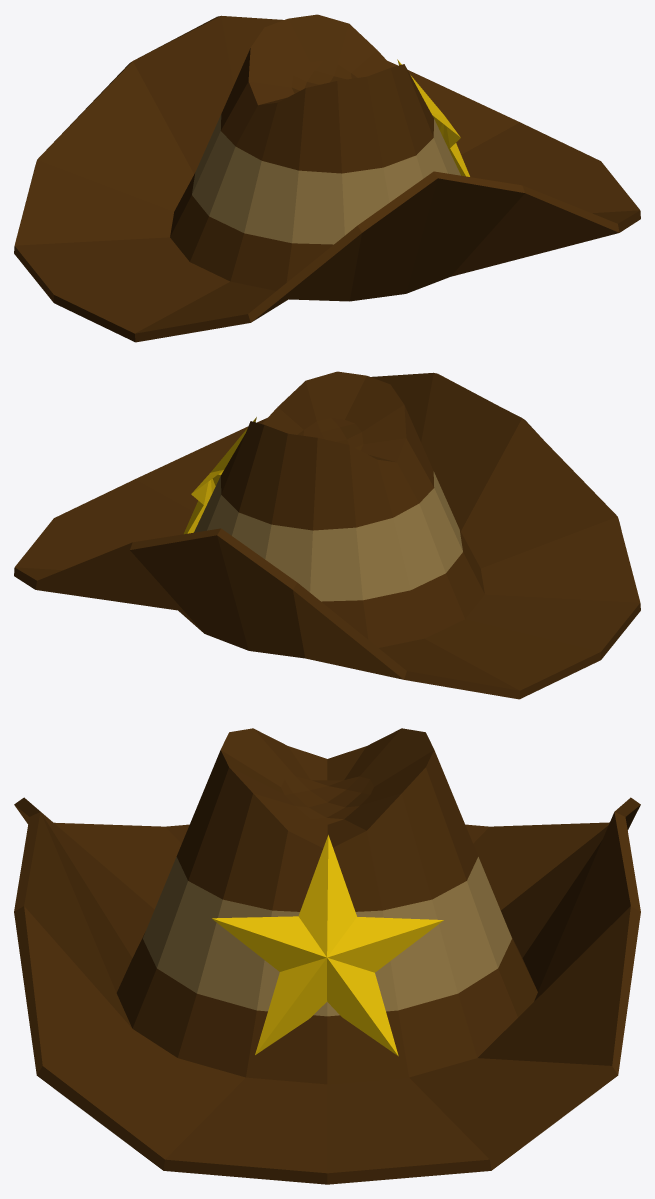
The model's file is Sombrero.fbx.
3 renders of one model, top to bottom at view 1: azimuth 30°, elevation 25°; view 2: azimuth 150°, elevation 25°; view 3: azimuth 270°, elevation 25°, orthographic. The views are drawn at different scales.
Visible parts, largest first — view 1: SombreroVaquero, Estrella; view 2: SombreroVaquero, Estrella; view 3: SombreroVaquero, Estrella.
Part boxes in pixels (bbox=[...]): SombreroVaquero: bbox=[14, 14, 640, 342]; Estrella: bbox=[397, 59, 469, 176]; SombreroVaquero: bbox=[14, 371, 640, 699]; Estrella: bbox=[184, 417, 256, 534]; SombreroVaquero: bbox=[14, 728, 640, 1184]; Estrella: bbox=[212, 835, 443, 1056].
Size of the model in its own units: 340 by 112 by 250.
